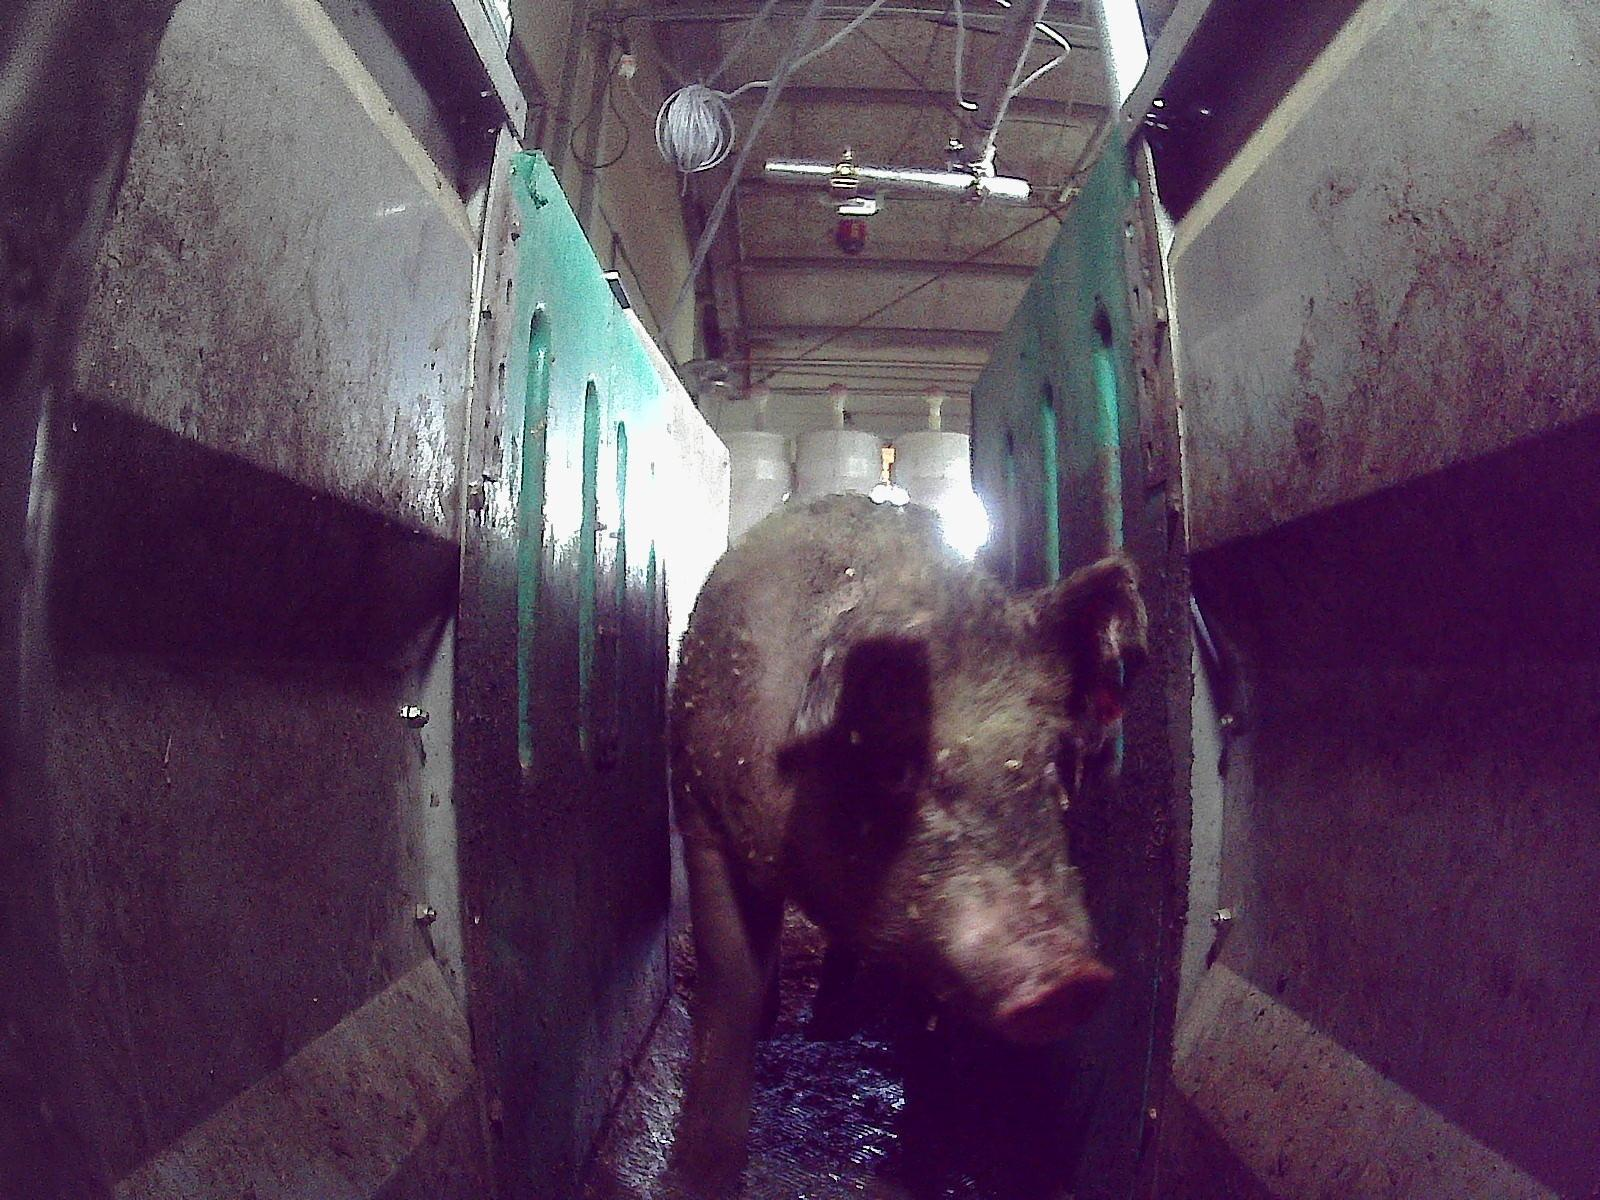Face: (786, 601, 1112, 1044)
